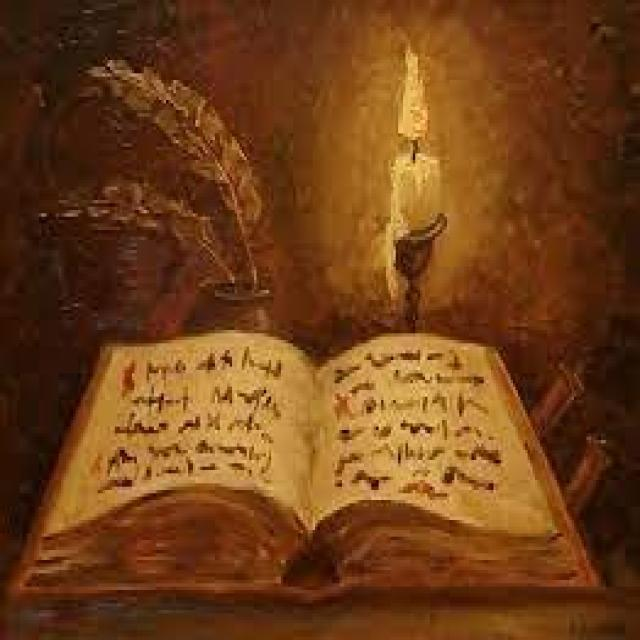book: (5, 304, 640, 600)
